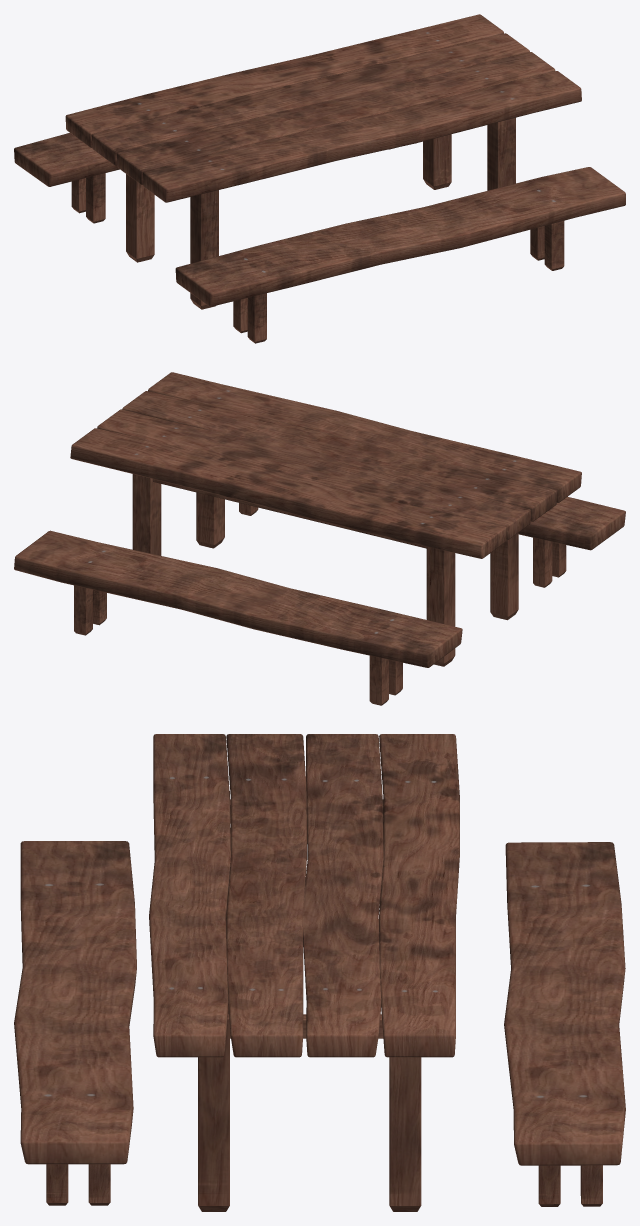
File: wooden table.fbx
The picture shows the model from 3 angles, top to bottom: view 1: azimuth 30°, elevation 25°; view 2: azimuth 150°, elevation 25°; view 3: azimuth 270°, elevation 25°; orthographic projection. The views are drawn at different scales.
Parts seen in each view (by area): view 1: table; view 2: table; view 3: table.
Part boxes in pixels (x1,y1,x2,y2): table: [14, 14, 625, 343]; table: [14, 372, 625, 705]; table: [14, 734, 625, 1211].
Bounding box in the file's own units: 202 × 66.76 × 172.
